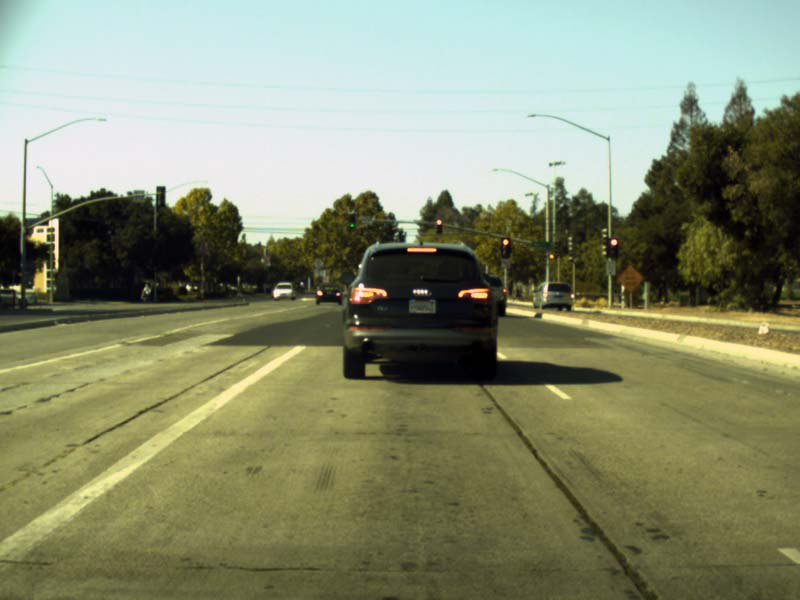Green: (349, 214, 354, 227)
Red: (608, 238, 617, 257), (501, 238, 509, 257), (436, 218, 441, 233)
